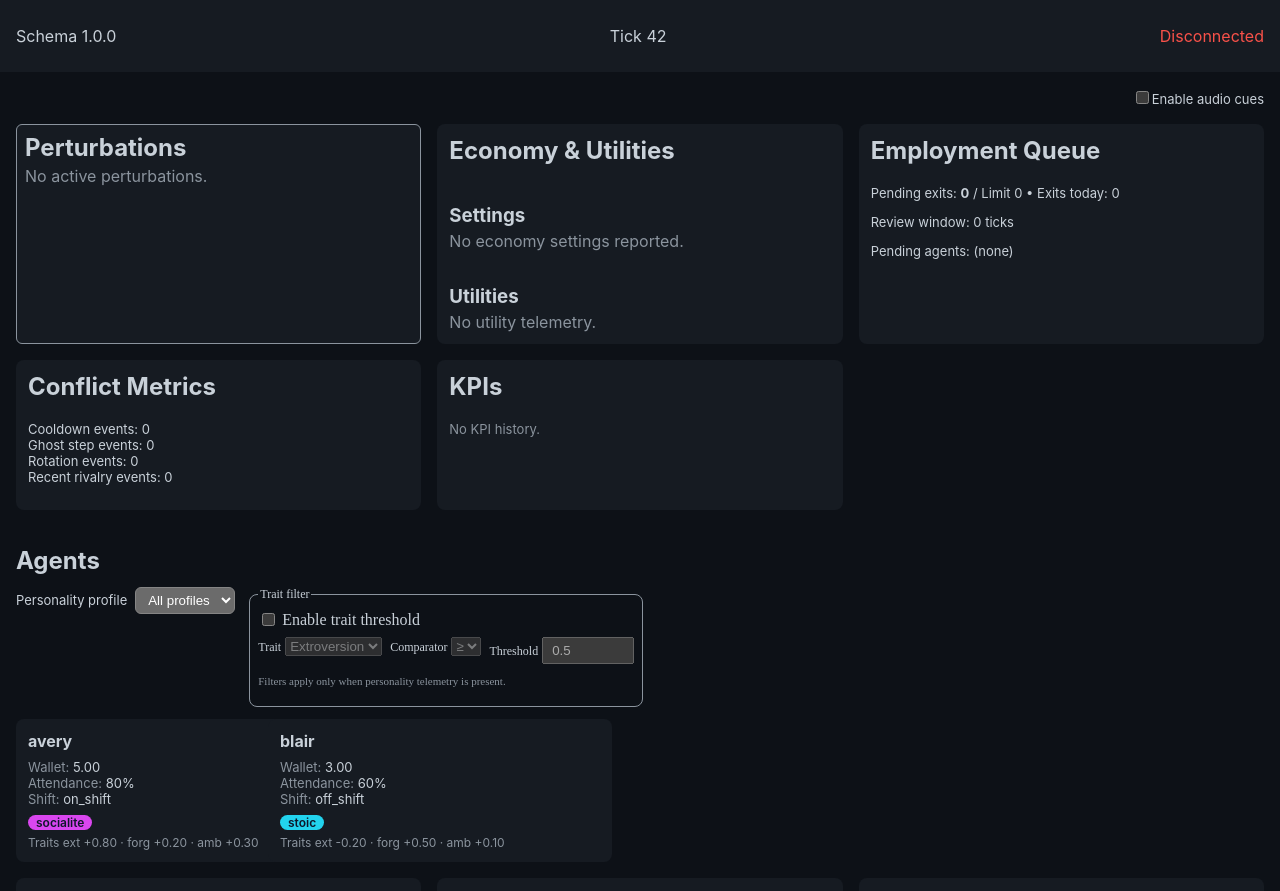
Test: App personality filters › filters agents by profile and trait when personality data is present
The width and height of the screenshot is (1280, 891).
Expected: the heading "avery" is shown, [28, 731, 72, 751]
Expected: the heading "blair" is shown, [280, 731, 315, 751]
Step 1. Select "stoic" in the dropdown labelled "Personality profile" → (185, 601), box [135, 587, 235, 614]
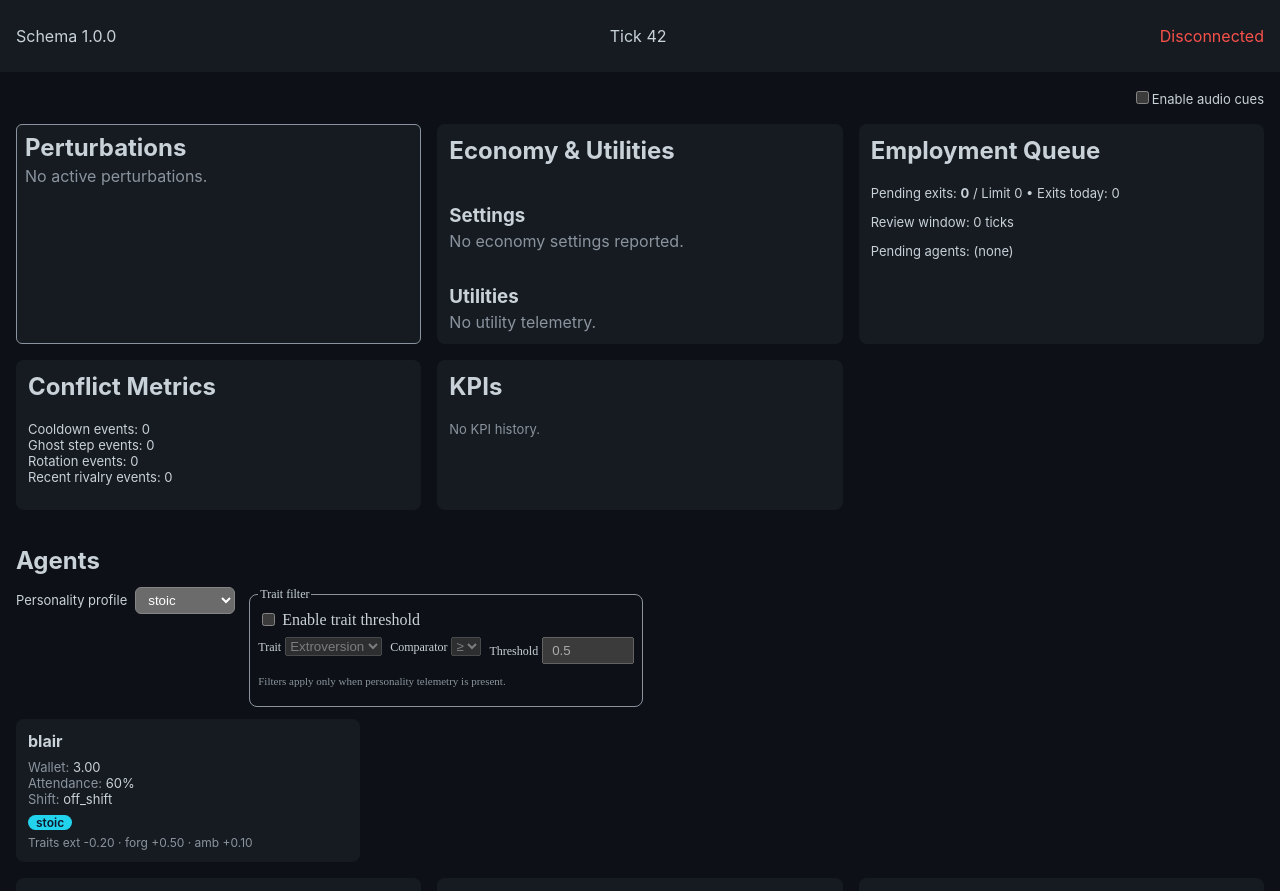
Expected: the heading "blair" is shown, [28, 731, 63, 751]
Expected: the heading "avery" is gone
Step 2. Select "All profiles" in the dropdown labelled "Personality profile" → (185, 601), box [135, 587, 235, 614]
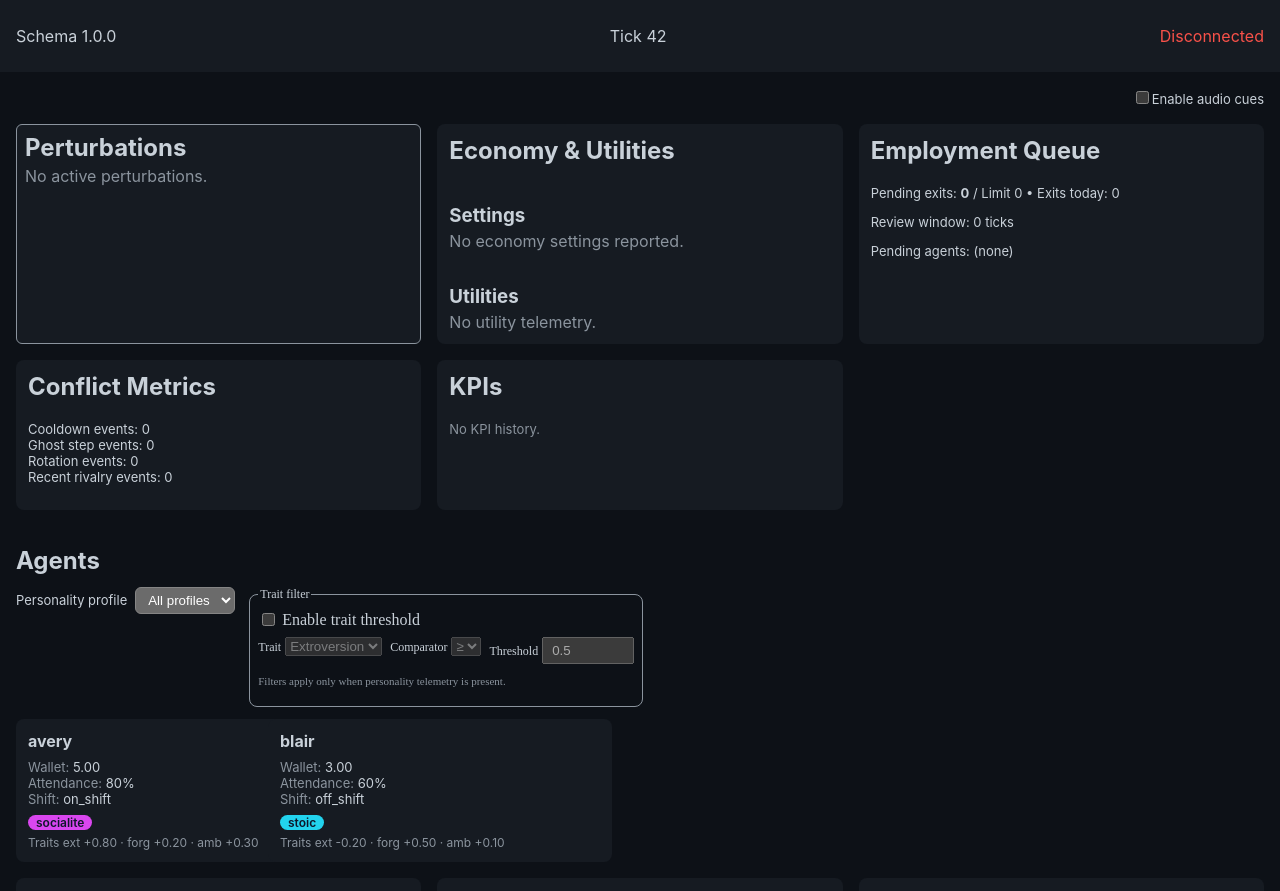
Step 3. Click the checkbox labelled "Enable trait threshold" → (269, 620), box [262, 613, 275, 626]
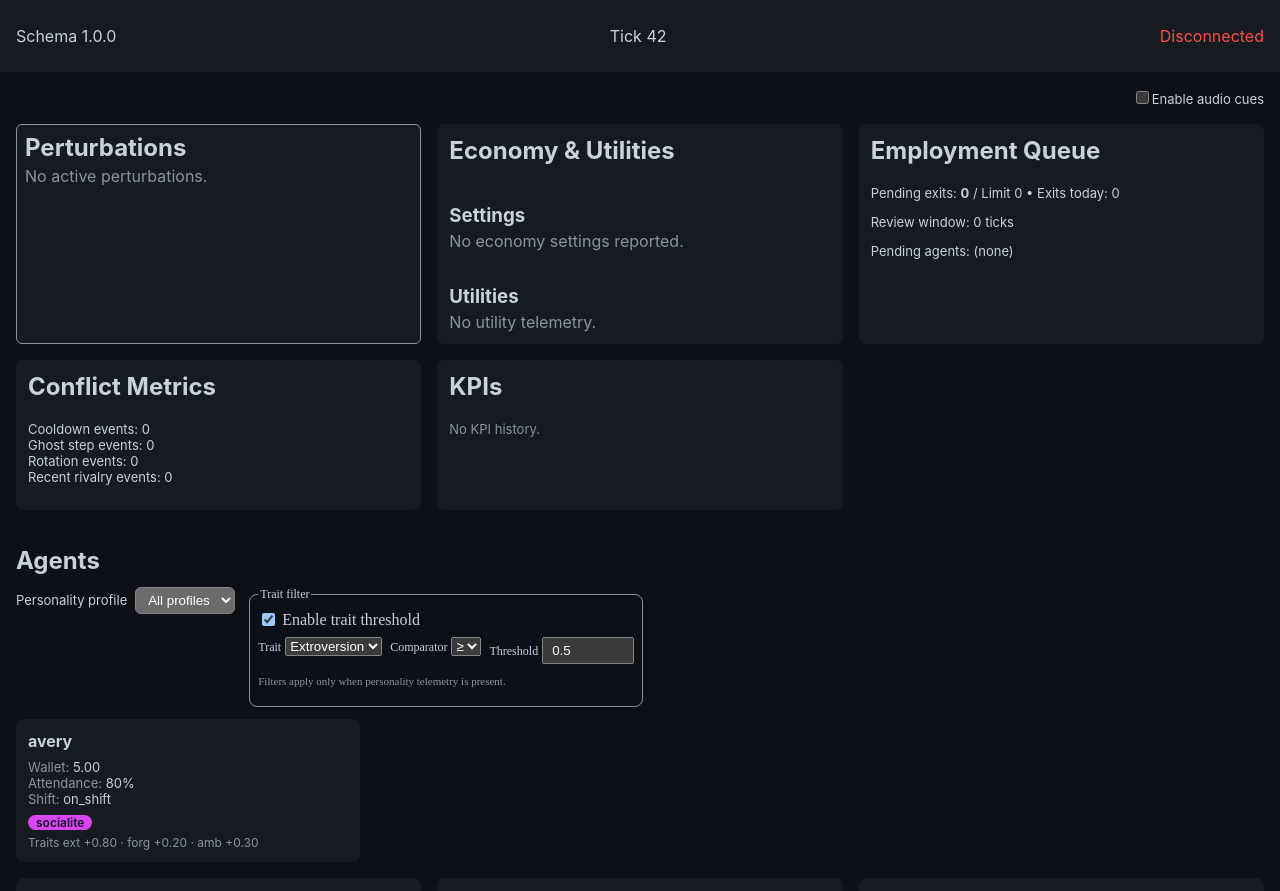
Step 4. Replace the text in the number field labelled "Threshold" with "0.7" → (588, 651), box [542, 637, 634, 664]
(page scrolled)
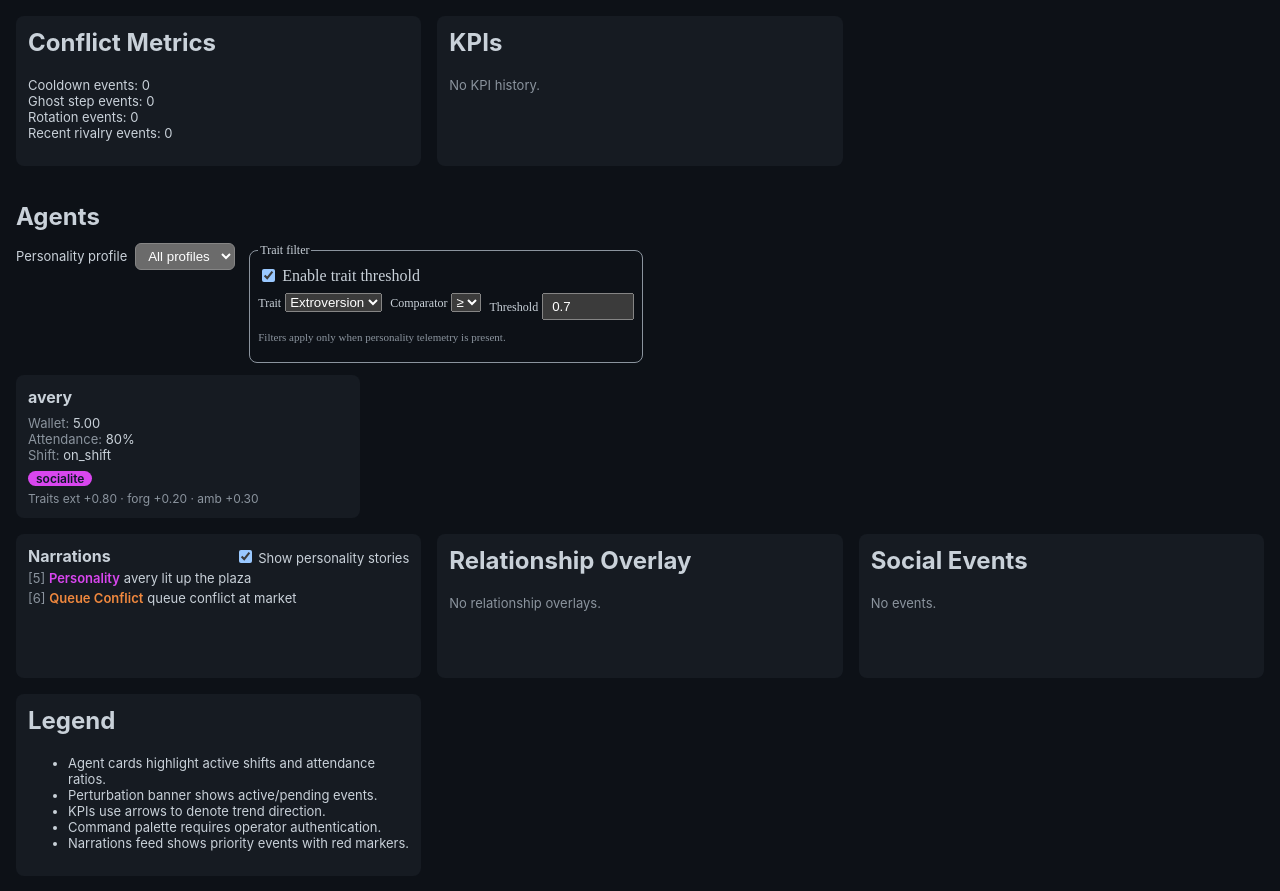
Expected: the heading "blair" is not shown
Expected: the heading "avery" is shown, [28, 387, 72, 407]
Step 5. Click the checkbox labelled "Show personality stories" → (245, 556), box [238, 550, 252, 563]
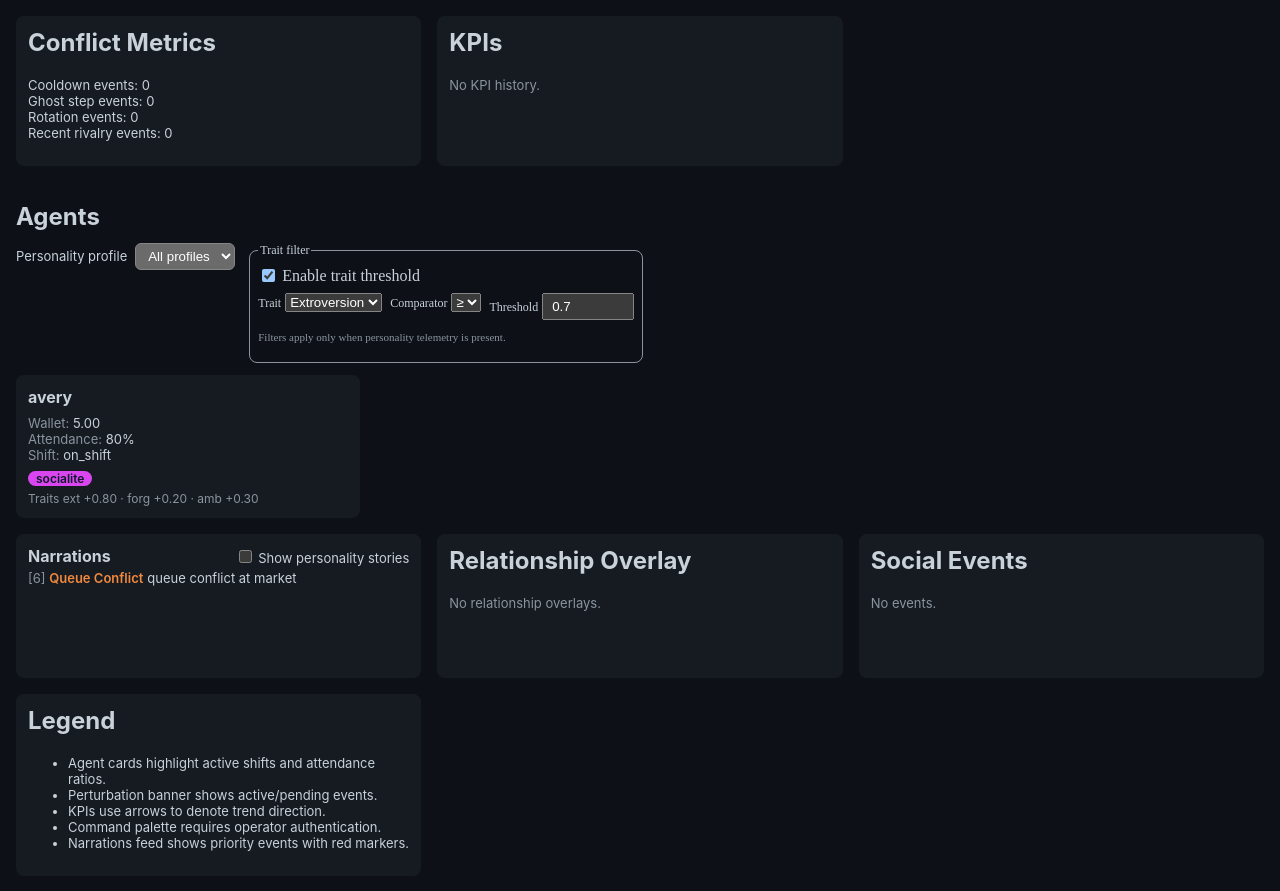
Expected: the checkbox labelled "Show personality stories" is not checked, [238, 550, 252, 563]
Expected: the text "avery lit up the plaza" is gone
